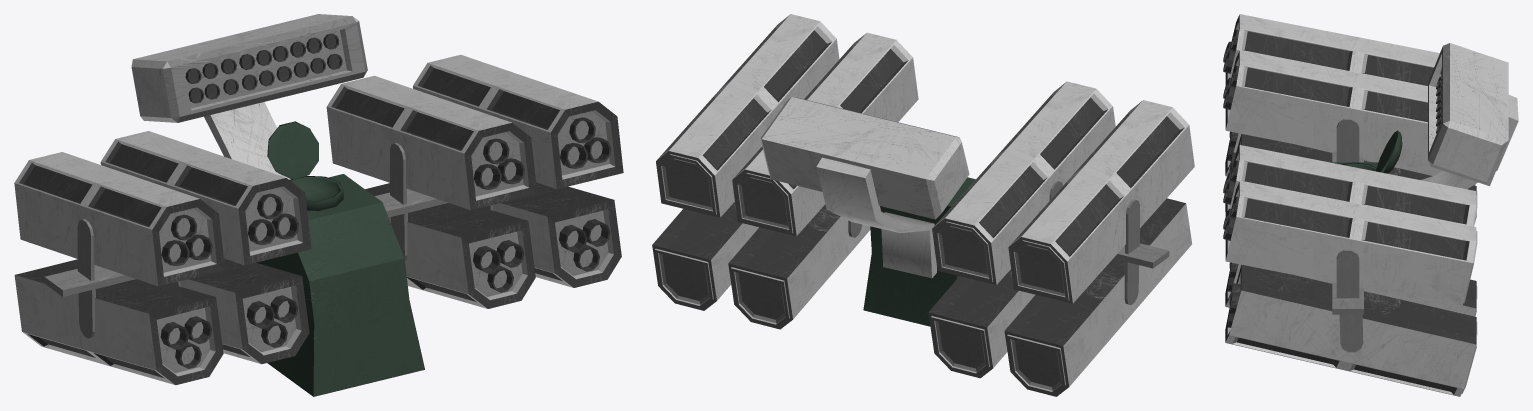
File: MissileRT4.fbx
3 renders of one model, left to right at view 1: azimuth 30°, elevation 25°; view 2: azimuth 150°, elevation 25°; view 3: azimuth 270°, elevation 25°, orthographic. The views are drawn at different scales.
Parts seen in each view (by area): view 1: pCylinder95; view 2: pCylinder95; view 3: pCylinder95.
Part boxes in pixels (x1=…): pCylinder95: x1=14, y1=14, x2=623, y2=396; pCylinder95: x1=652, y1=14, x2=1194, y2=396; pCylinder95: x1=1223, y1=14, x2=1518, y2=396.
Size of the model in its own units: 48.9 by 23.24 by 27.62.
